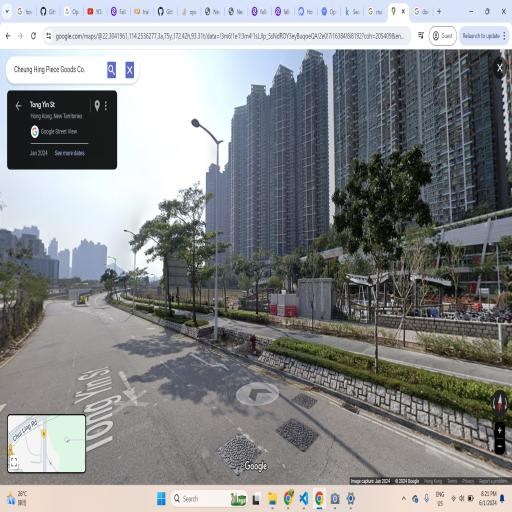Roads: (81, 309, 484, 473)
Trees: (337, 133, 431, 378), (160, 183, 226, 343), (116, 206, 190, 333)
